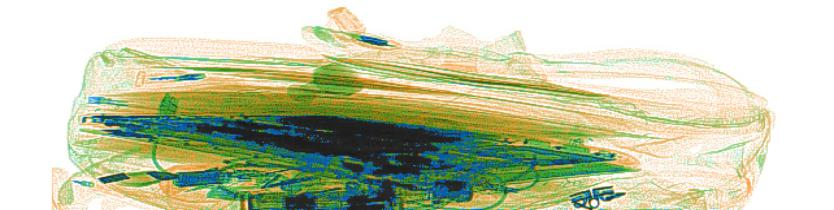battery: (174, 168, 227, 188)
seal: (284, 61, 361, 105)
